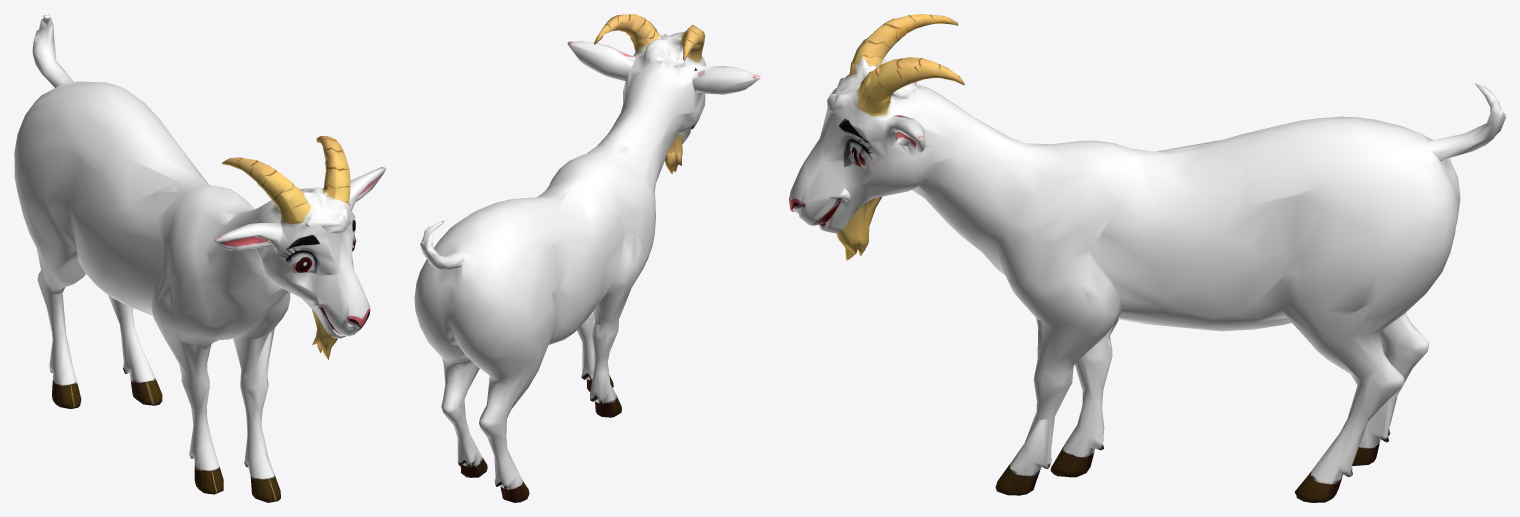
The model's file is goatchar.glb.
3 renders of one model, left to right at view 1: azimuth 30°, elevation 25°; view 2: azimuth 150°, elevation 25°; view 3: azimuth 270°, elevation 25°, orthographic. The views are drawn at different scales.
Size of the model in its own units: 0.69 by 1.31 by 1.91.
1 material, 1 textured.
